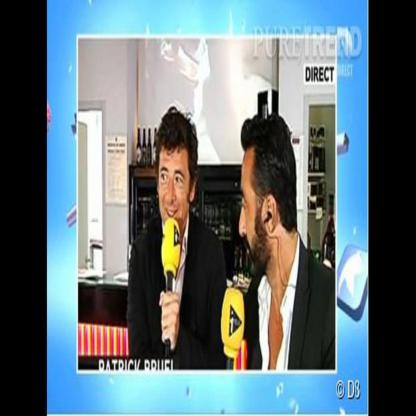face: (237, 149, 265, 263), (160, 147, 186, 234)
